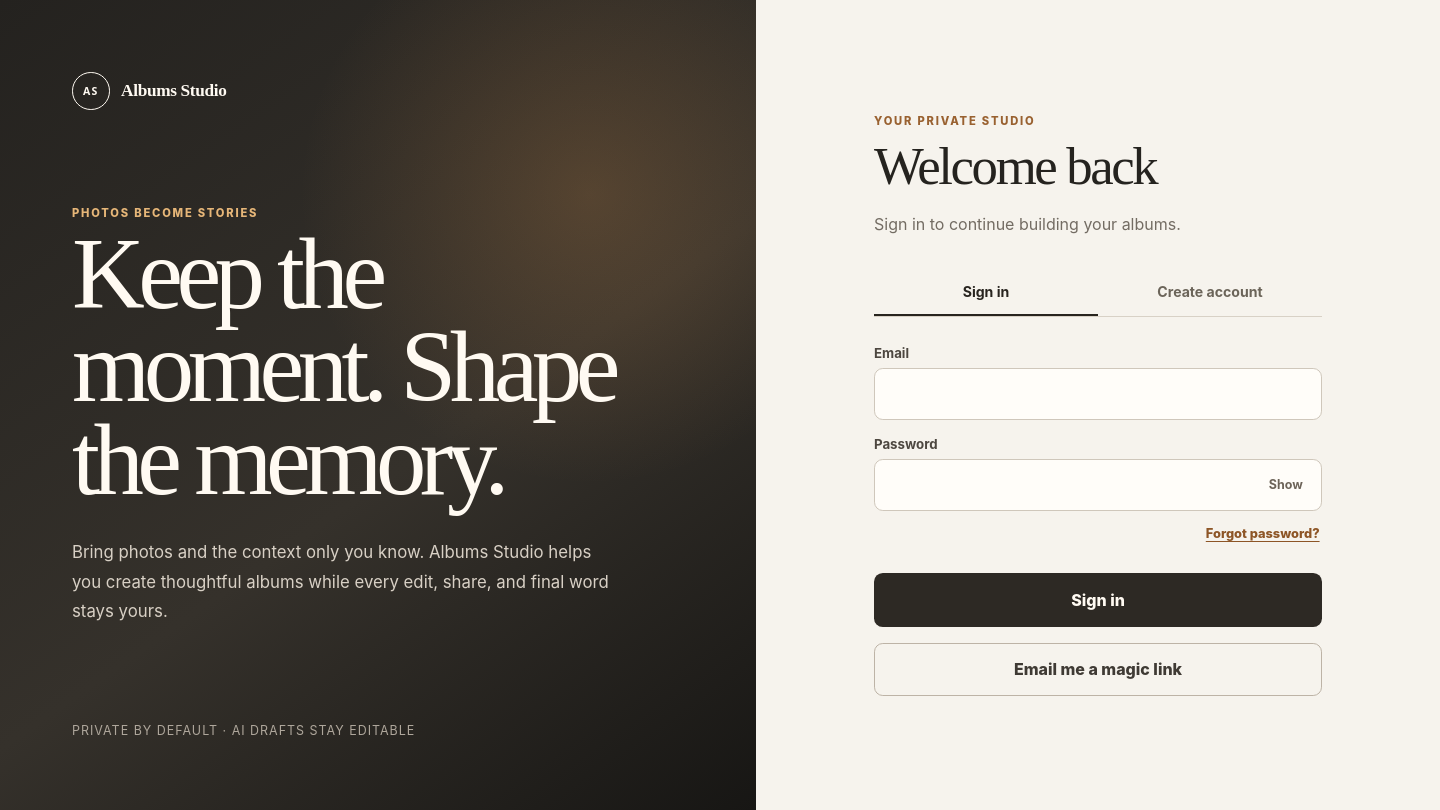
Test: App › explains a rate-limited magic link instead of repeating Supabase
Expected: the heading "Welcome back" is shown, [874,137,1156,195]
Type "person@example.com" into the field labelled "Email" at point(1098, 394), box [874,368,1322,420]
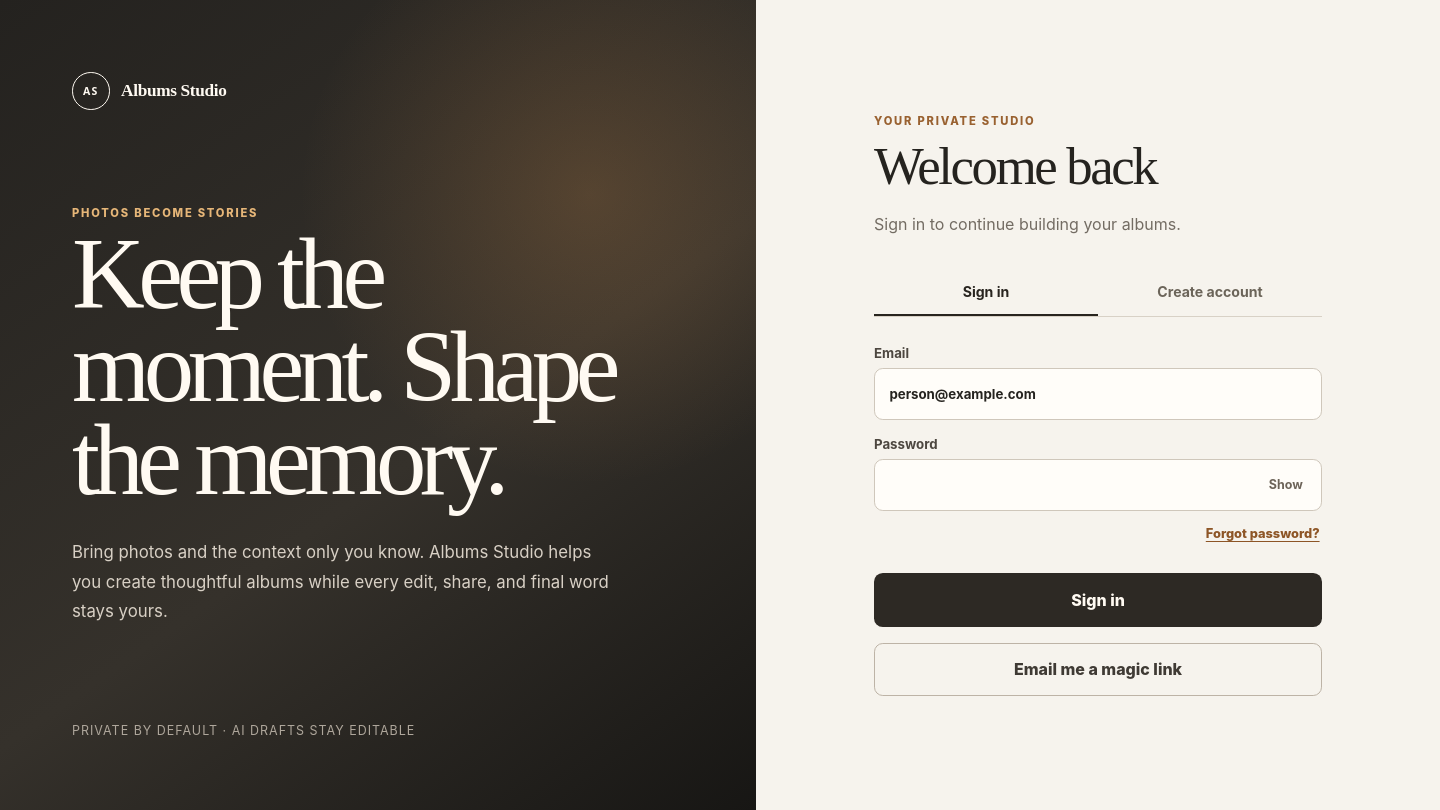
Click the button "Email me a magic link" at point(1098, 670), box [874,643,1322,696]
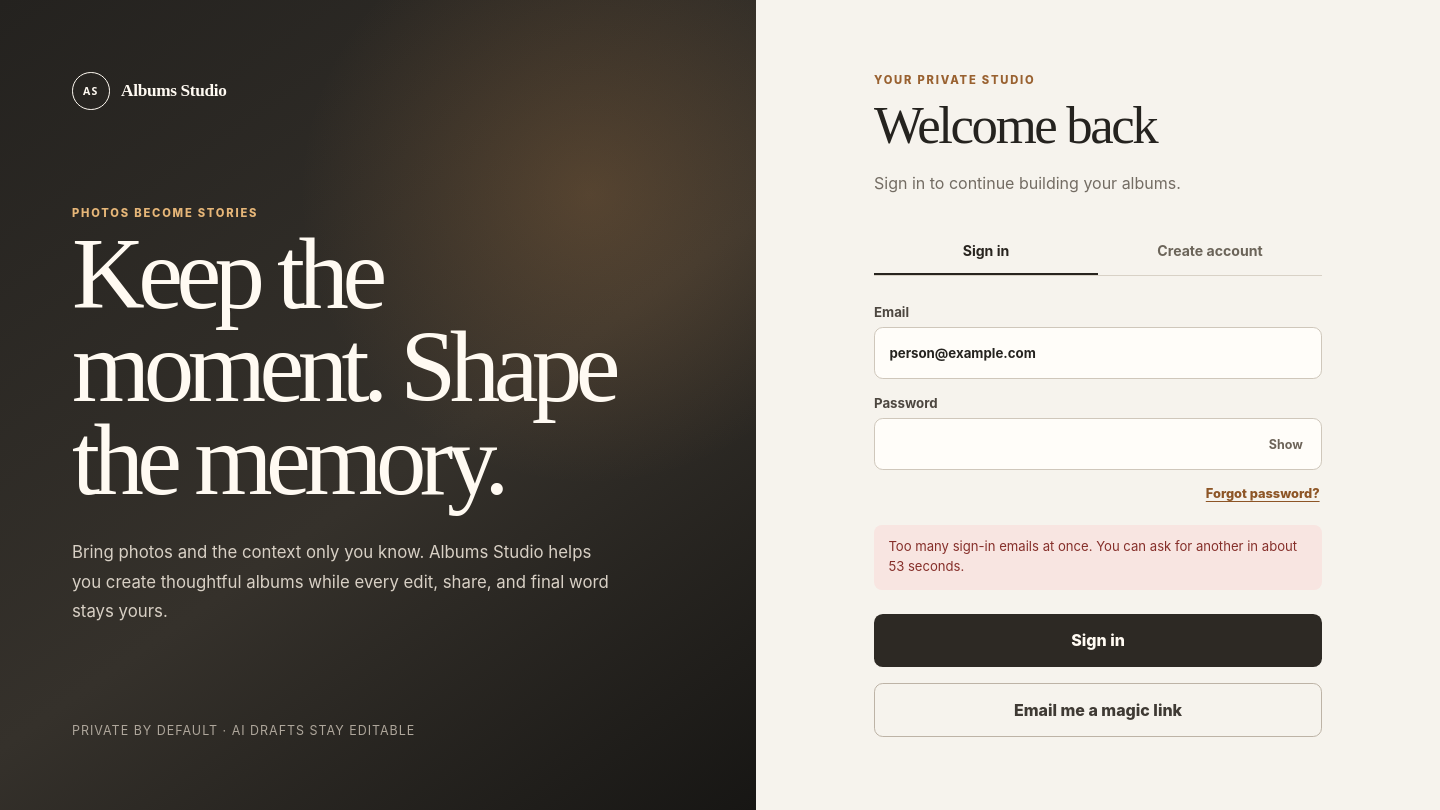
Expected: the message reads "Too many sign-in emails at once. You can ask for another in about 53 seconds.", [888,538,1297,574]
